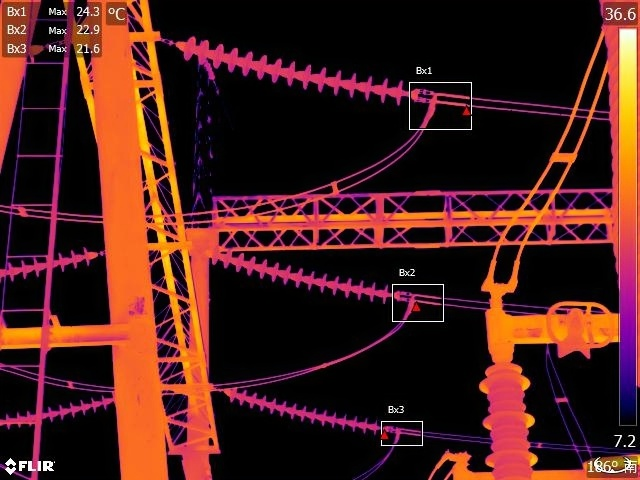clamp: (417, 87, 449, 124), (404, 289, 427, 315), (391, 424, 405, 442)
insulator: (180, 26, 409, 115), (205, 239, 390, 309), (474, 349, 545, 480), (226, 385, 379, 440), (1, 240, 100, 291), (1, 395, 116, 435)
switch: (482, 291, 620, 360)
